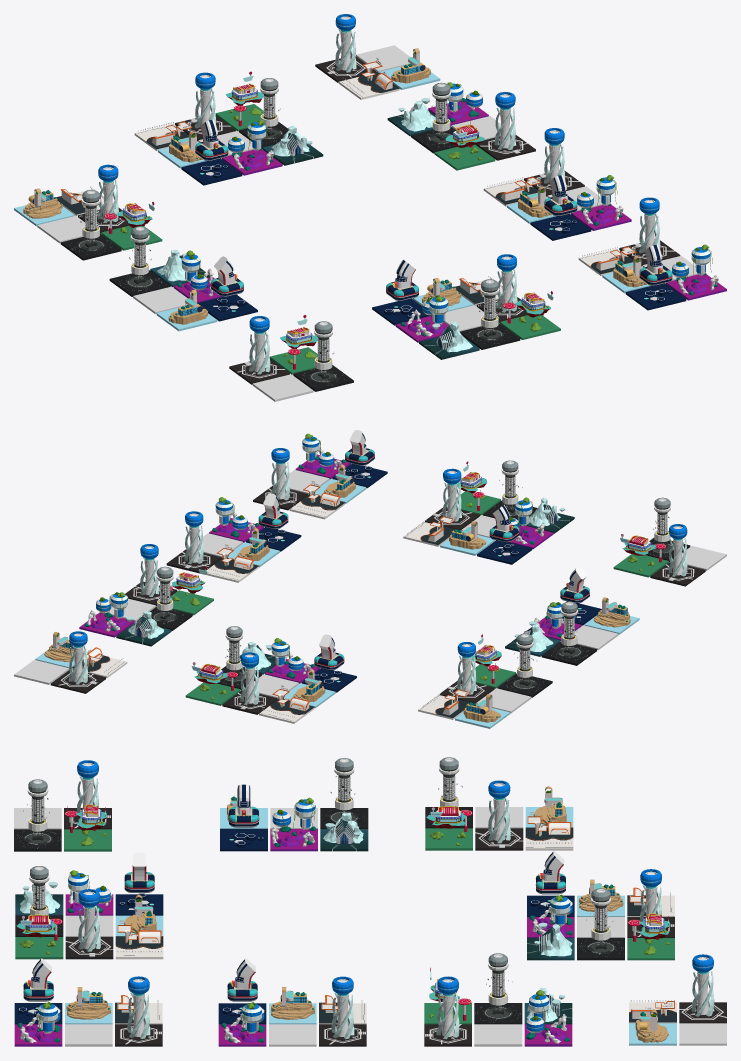
The model's file is D9_Commerce_Part_3.fbx.
The picture shows the model from 3 angles, top to bottom: view 1: azimuth 30°, elevation 25°; view 2: azimuth 150°, elevation 25°; view 3: azimuth 270°, elevation 25°; orthographic projection. The views are drawn at different scales.
Visible parts, largest first — view 1: Cube.145, Cube.256, Cube.265, Cube.193, Cube.278, Cube.222, Cube.138, Cube.253, Cube.262, Cube.247, Cube.219, Cube.175 (+38 smaller); view 2: Cube.247, Cube.287, Cube.222, Cube.159, Cube.269, Cube.271, Cube.143, Cube.196, Cube.211, Cube.175, Cube.145, Cube.265 (+42 smaller); view 3: Cube.251, Cube.177, Cube.278, Cube.193, Cube.260, Cube.269, Cube.287, Cube.151, Cube.219, Cube.186, Cube.246, Cube.276 (+43 smaller).
Part boxes in pixels (bbox=[...]): Cube.145: bbox=[181, 119, 242, 185]; Cube.256: bbox=[625, 244, 686, 310]; Cube.265: bbox=[530, 175, 591, 240]; Cube.193: bbox=[197, 256, 257, 321]; Cube.278: bbox=[475, 92, 535, 160]; Cube.222: bbox=[229, 316, 289, 384]; Cube.138: bbox=[222, 119, 282, 175]; Cube.253: bbox=[666, 244, 726, 300]; Cube.262: bbox=[571, 175, 631, 230]; Cube.247: bbox=[372, 259, 431, 325]; Cube.219: bbox=[293, 321, 353, 391]; Cube.175: bbox=[60, 190, 121, 260]; Cube.247: bbox=[477, 505, 532, 564]; Cube.287: bbox=[50, 631, 105, 693]; Cube.222: bbox=[650, 524, 705, 586]; Cube.159: bbox=[222, 652, 277, 714]; Cube.269: bbox=[166, 511, 221, 573]; Cube.271: bbox=[79, 592, 134, 637]; Cube.143: bbox=[185, 662, 240, 705]; Cube.196: bbox=[541, 601, 596, 665]; Cube.211: bbox=[613, 534, 668, 577]; Cube.175: bbox=[497, 633, 552, 697]; Cube.145: bbox=[301, 634, 356, 692]; Cube.265: bbox=[246, 493, 301, 551]; Cube.251: bbox=[65, 889, 113, 959]; Cube.177: bbox=[475, 780, 523, 850]; Cube.278: bbox=[424, 976, 471, 1046]; Cube.193: bbox=[220, 784, 267, 851]; Cube.260: bbox=[115, 976, 162, 1046]; Cube.269: bbox=[319, 976, 366, 1046]; Cube.287: bbox=[679, 954, 726, 1023]; Cube.151: bbox=[577, 888, 624, 960]; Cube.219: bbox=[14, 779, 61, 851]; Cube.186: bbox=[270, 797, 317, 851]; Cube.246: bbox=[15, 912, 63, 959]; Cube.276: bbox=[474, 953, 522, 1024].
Size of the model in its own units: 46875 by 5573 by 59698.
Materials: 22 (20 with a texture image).
